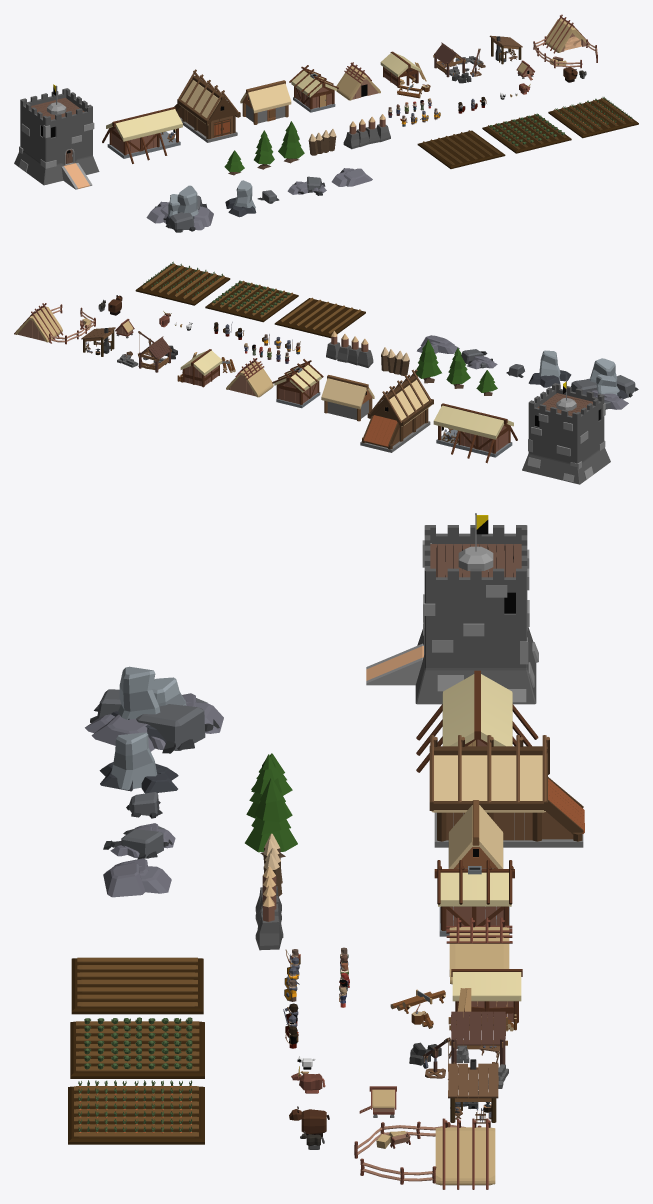
File: medieval_village.glb
3 renders of one model, top to bottom at view 1: azimuth 30°, elevation 25°; view 2: azimuth 150°, elevation 25°; view 3: azimuth 270°, elevation 25°, orthographic. The views are drawn at different scales.
Parts seen in each view (by area): view 1: Cylinder.000; view 2: Cylinder.000; view 3: Cylinder.000.
Part boxes in pixels (bbox=[...]): Cylinder.000: bbox=[14, 14, 638, 232]; Cylinder.000: bbox=[14, 261, 638, 484]; Cylinder.000: bbox=[68, 513, 584, 1189].
Size of the model in its own units: 3.88 by 0.5729 by 1.57.
